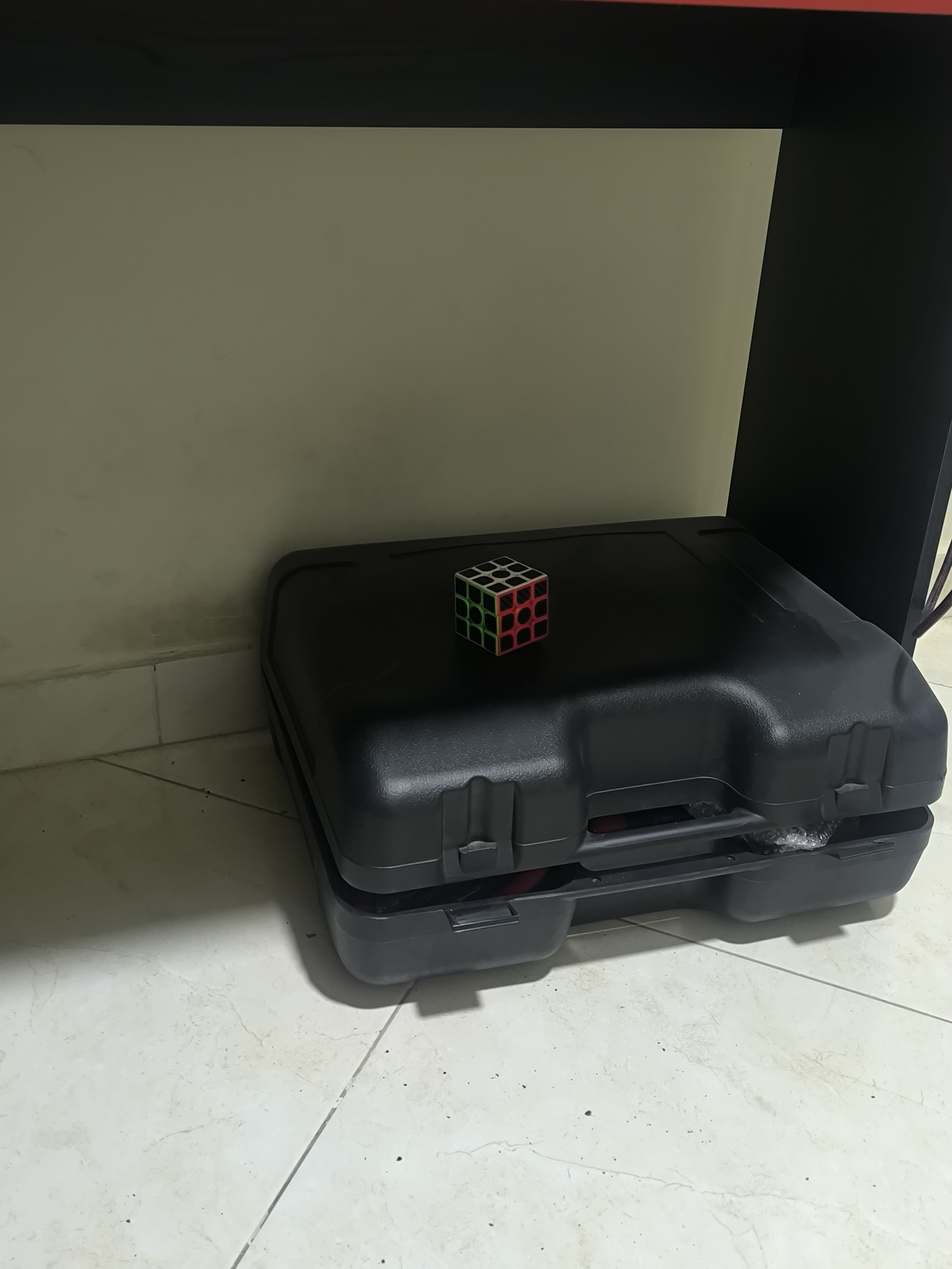cube_rubik: (455, 555, 551, 657)
